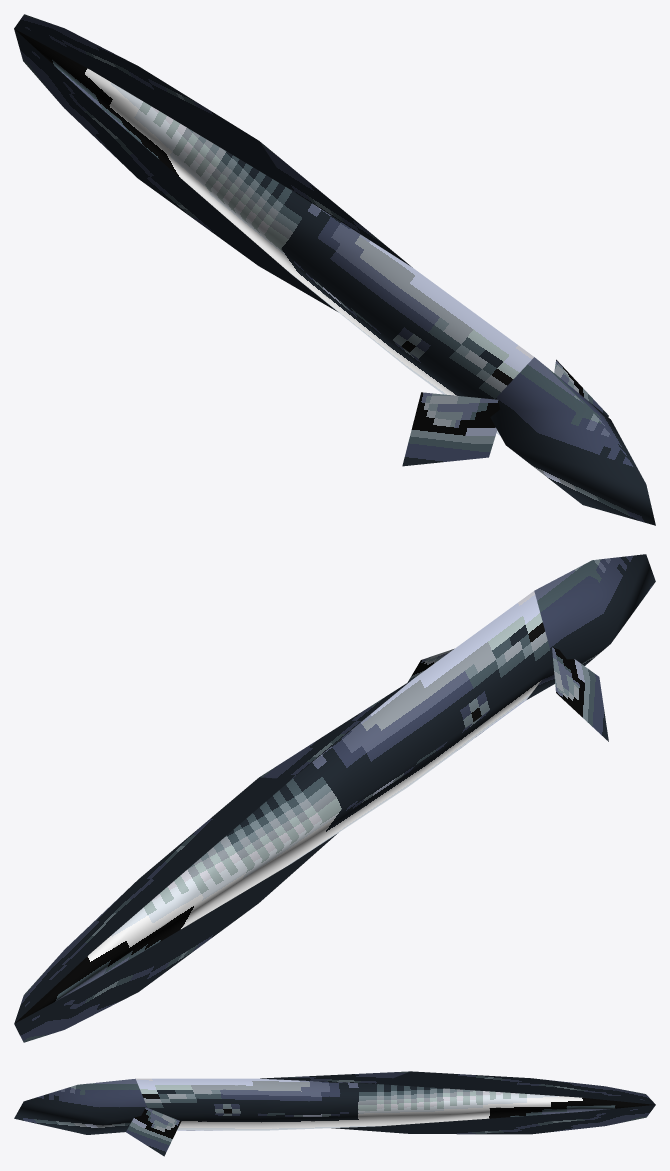
3 views of the same model, one above another, from view 1: azimuth 30°, elevation 25°; view 2: azimuth 150°, elevation 25°; view 3: azimuth 270°, elevation 25° (orthographic). The views are drawn at different scales.
Visible parts, largest first — view 1: 4866fish76; view 2: 4866fish76; view 3: 4866fish76.
Part boxes in pixels (<box>): 4866fish76: <box>14,14,655,525</box>; 4866fish76: <box>14,554,655,1042</box>; 4866fish76: <box>14,1071,655,1156</box>.
Bounding box in the file's own units: 0.1899 × 0.1118 × 1.02.
Materials: 1 (1 with a texture image).
